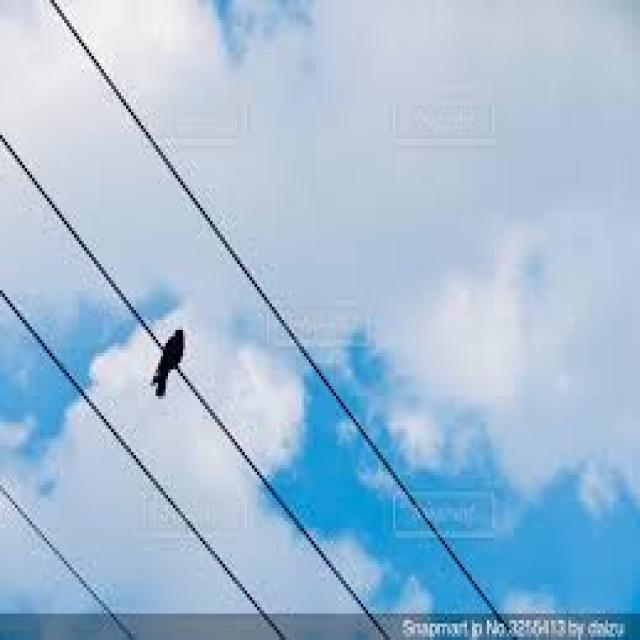bird: (148, 313, 194, 413)
